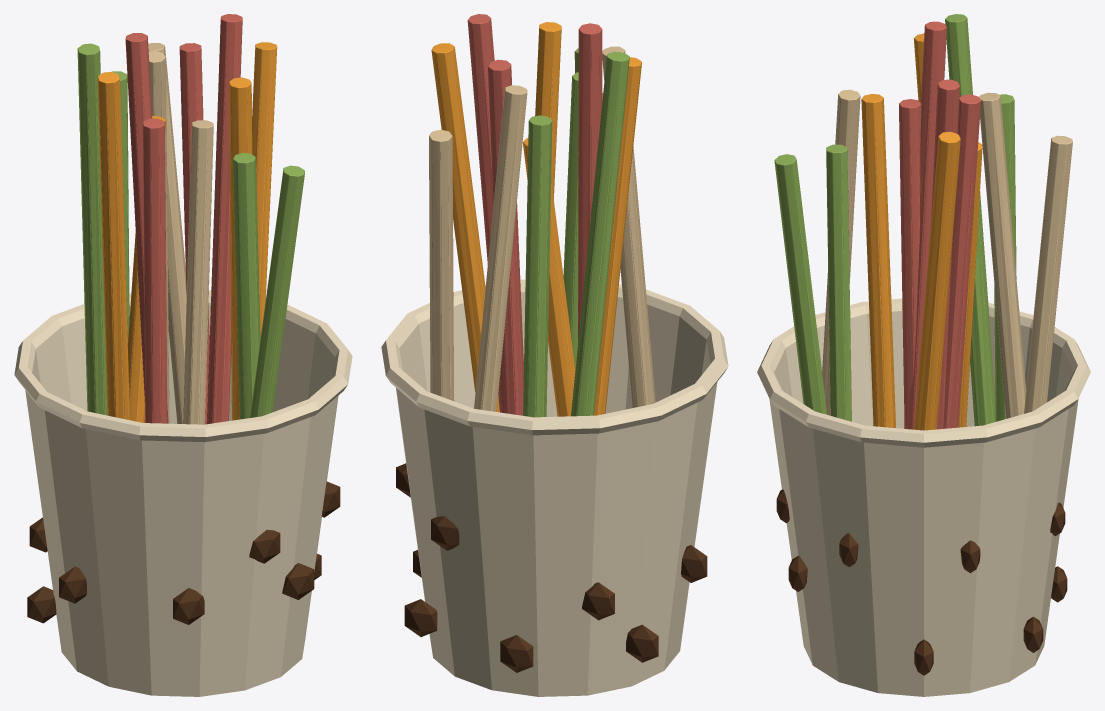
Rendered from straw_holder.fbx.
3 views of the same model, side by side, from view 1: azimuth 30°, elevation 25°; view 2: azimuth 150°, elevation 25°; view 3: azimuth 270°, elevation 25° (orthographic). The views are drawn at different scales.
Visible parts, largest first — view 1: straw_holder; view 2: straw_holder; view 3: straw_holder.
Boxes of the visible parts, left/top/right/bottom form: straw_holder: left=14, top=14, right=352, bottom=696; straw_holder: left=381, top=14, right=728, bottom=696; straw_holder: left=757, top=14, right=1090, bottom=696.
Size of the model in its own units: 11.6 by 23.06 by 11.6.
